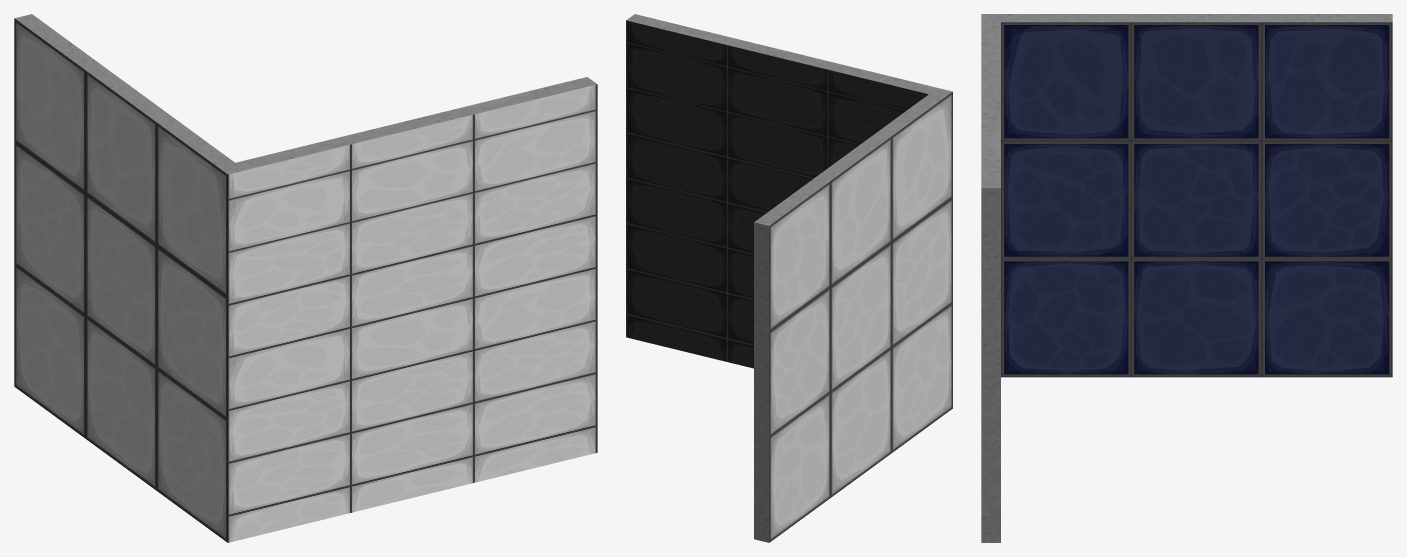
File: SM_Corner_Wall_Out.fbx
The picture shows the model from 3 angles, left to right: view 1: azimuth 30°, elevation 25°; view 2: azimuth 150°, elevation 25°; view 3: azimuth 270°, elevation 25°; orthographic projection. The views are drawn at different scales.
Parts seen in each view (by area): view 1: SM_Corner_Wall_Out; view 2: SM_Corner_Wall_Out; view 3: SM_Corner_Wall_Out.
Part boxes in pixels (left/top/right/bottom): SM_Corner_Wall_Out: left=14, top=14, right=597, bottom=542; SM_Corner_Wall_Out: left=626, top=14, right=952, bottom=542; SM_Corner_Wall_Out: left=981, top=14, right=1392, bottom=542.
Bounding box in the file's own units: 420 × 400 × 420.
